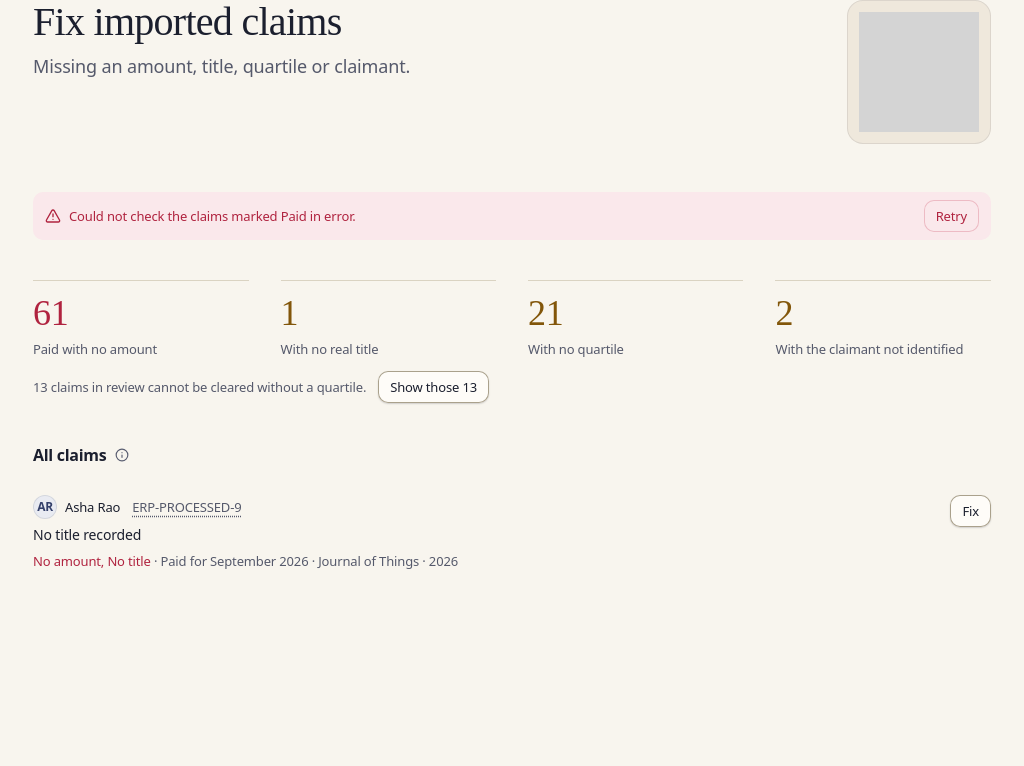
Scenario: the data-fix queue › saves through the fix endpoint with the reason, and says the ledger agrees
Click the button with aria-label "Fix ERP-PROCESSED-9": [971, 511] box [950,495,991,527]
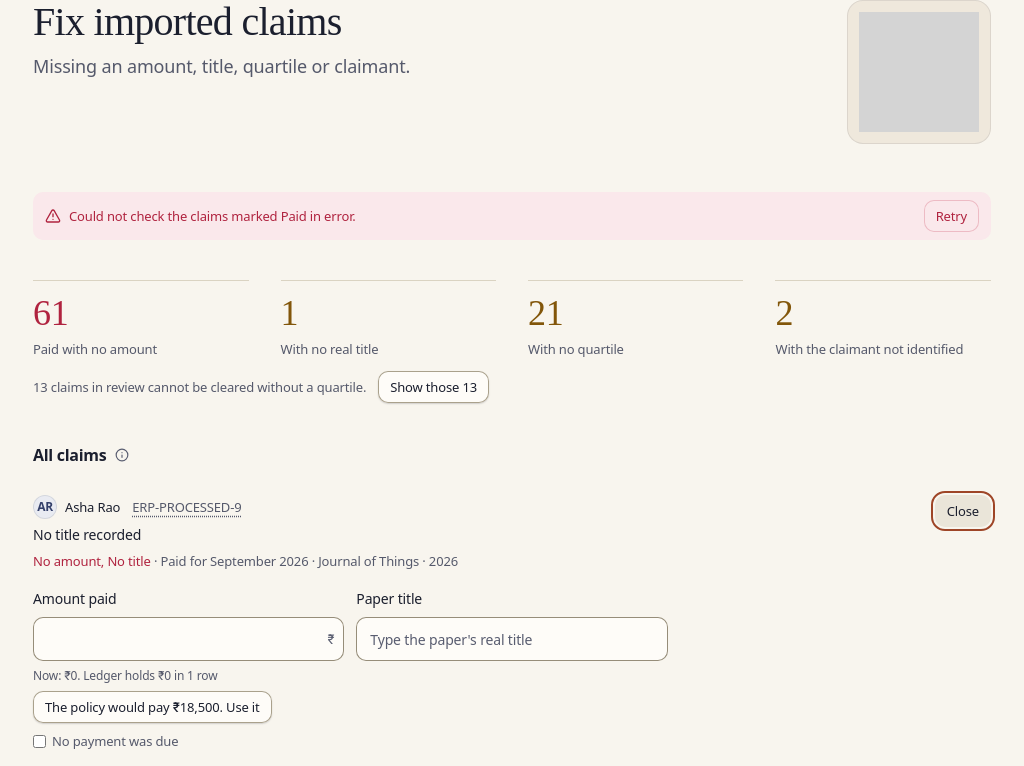
Click the button "The policy would pay ₹18,500. Use it": [152, 707] box [33,691,272,723]
(page scrolled)
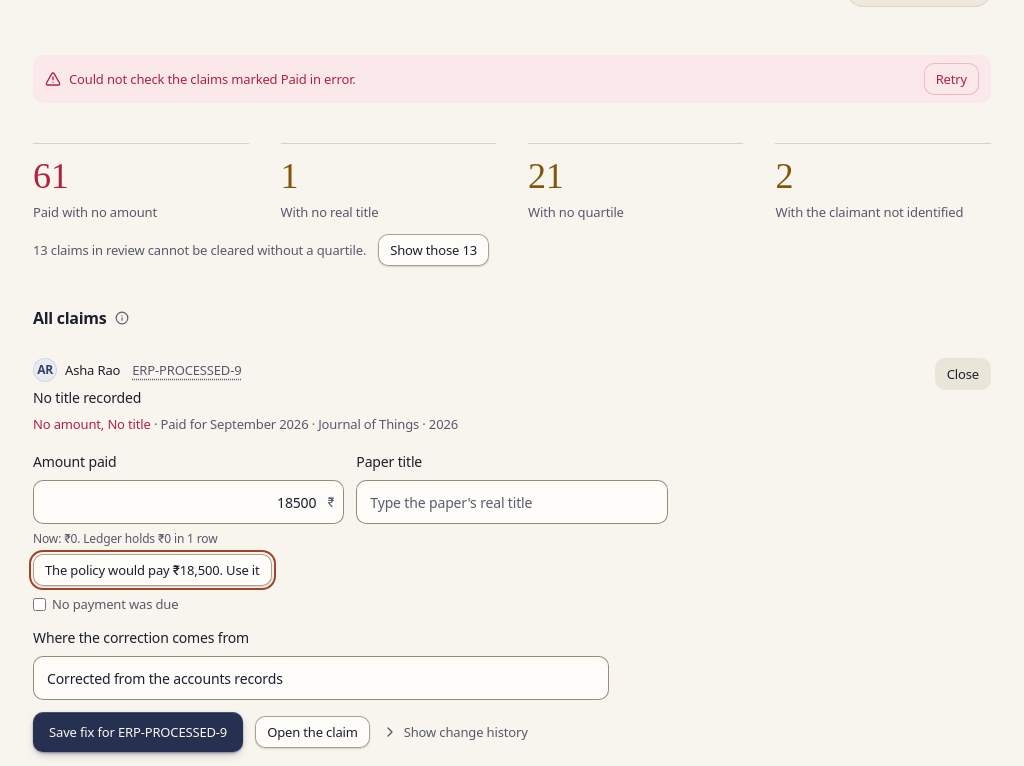
Click the button "Save fix for ERP-PROCESSED-9": [138, 732] box [33,712,243,752]
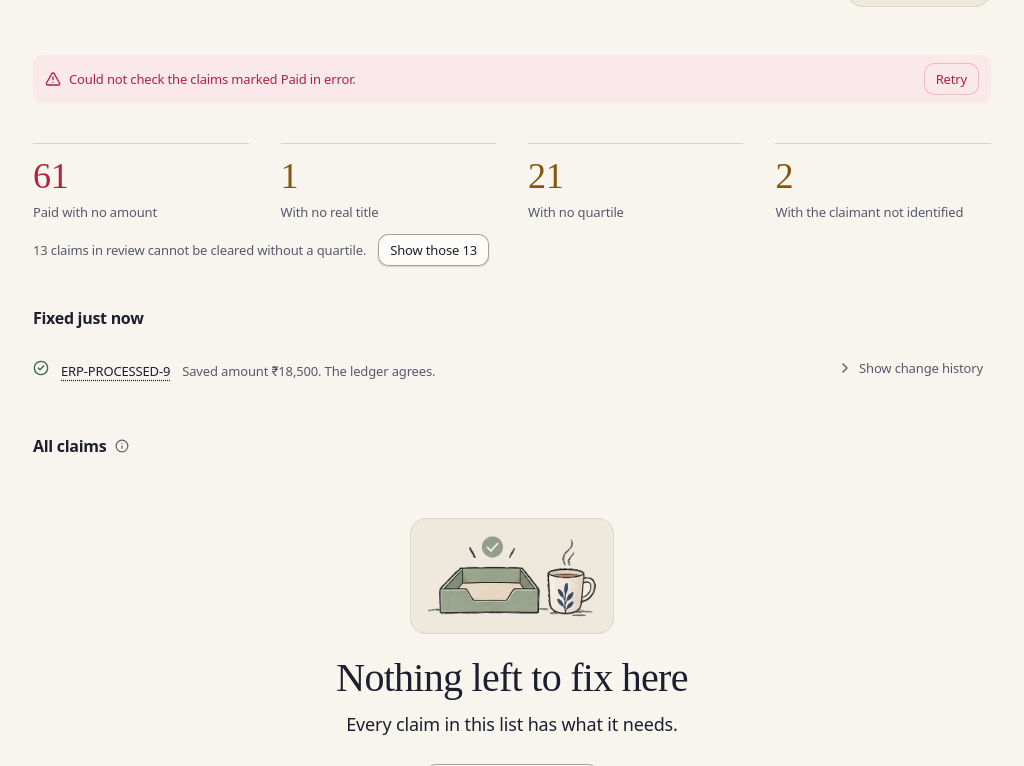
Check: the text "Saved amount ₹18,500. The ledger agrees." is shown, box [182,361,435,381]
